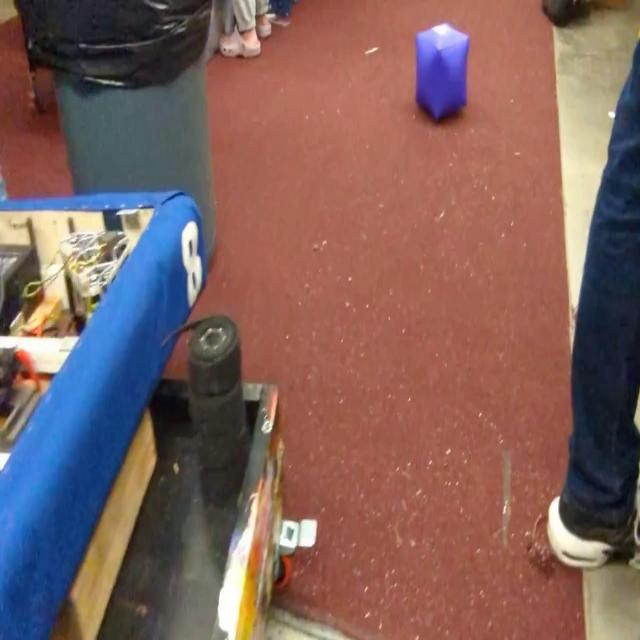frc_cube: (416, 22, 470, 124)
